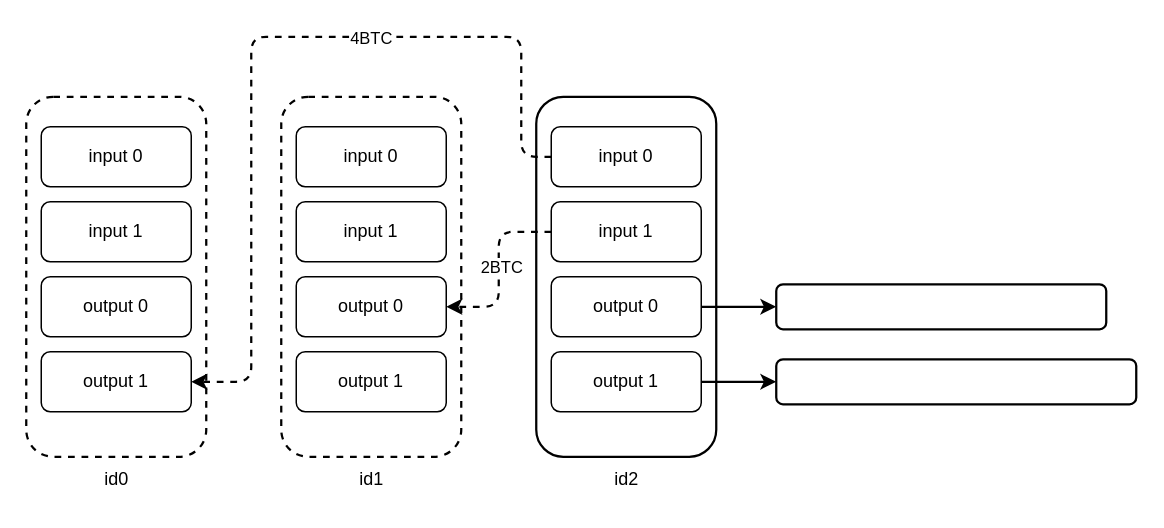
Some shapes in this 1164 by 528 pixel diagram are drawn without their labels. Each missing label, with the box of its shape:
send to Alice's pubkey 3 BTC: (774, 282, 1107, 330)
send to Bob's pubkey 2.95 BTC: (774, 357, 1137, 405)
